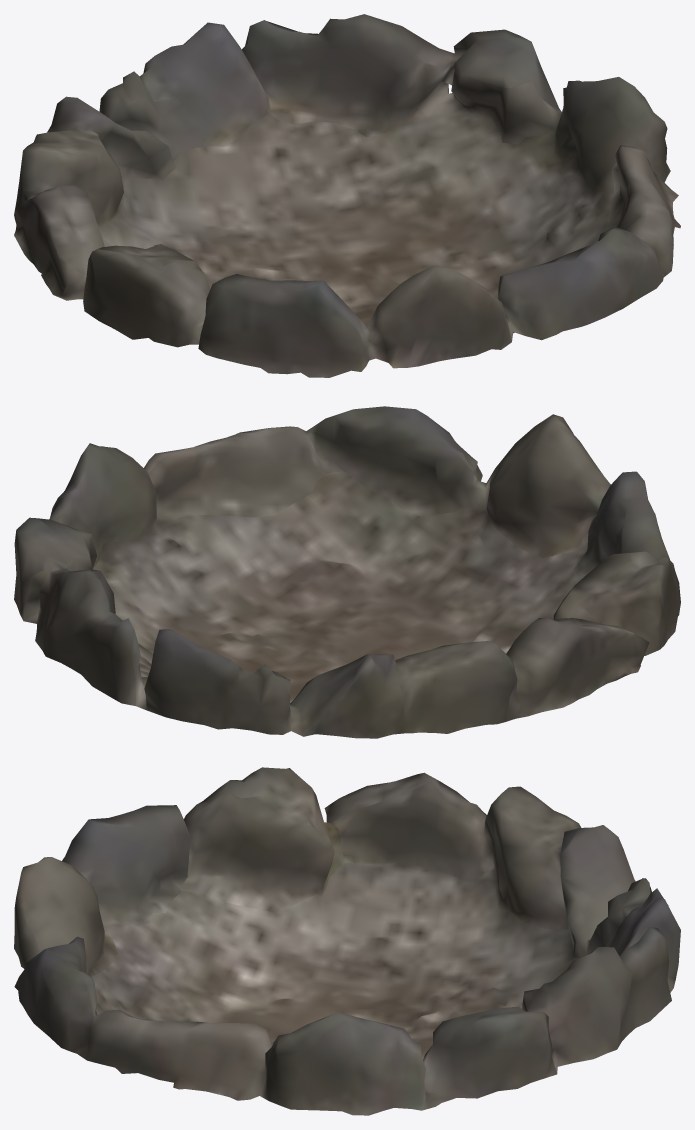
The model's file is stone_fire_pit.glb.
The picture shows the model from 3 angles, top to bottom: view 1: azimuth 30°, elevation 25°; view 2: azimuth 150°, elevation 25°; view 3: azimuth 270°, elevation 25°; orthographic projection.
Visible parts, largest first — view 1: stone_fire_pit; view 2: stone_fire_pit; view 3: stone_fire_pit.
Boxes of the visible parts, <box> form: stone_fire_pit: <box>14,14,680,377</box>; stone_fire_pit: <box>14,406,680,738</box>; stone_fire_pit: <box>14,767,680,1115</box>.
Bounding box in the file's own units: 1.45 × 0.3883 × 1.43.
Materials: 1 (1 with a texture image).
